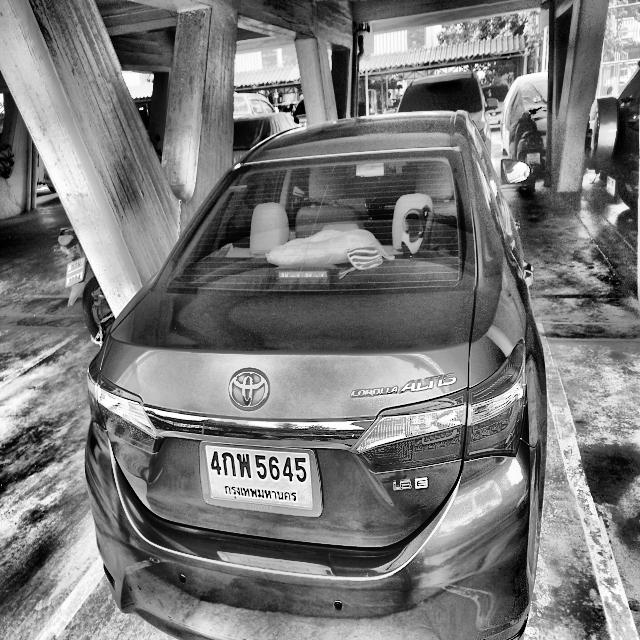license-plate: (199, 438, 324, 519)
